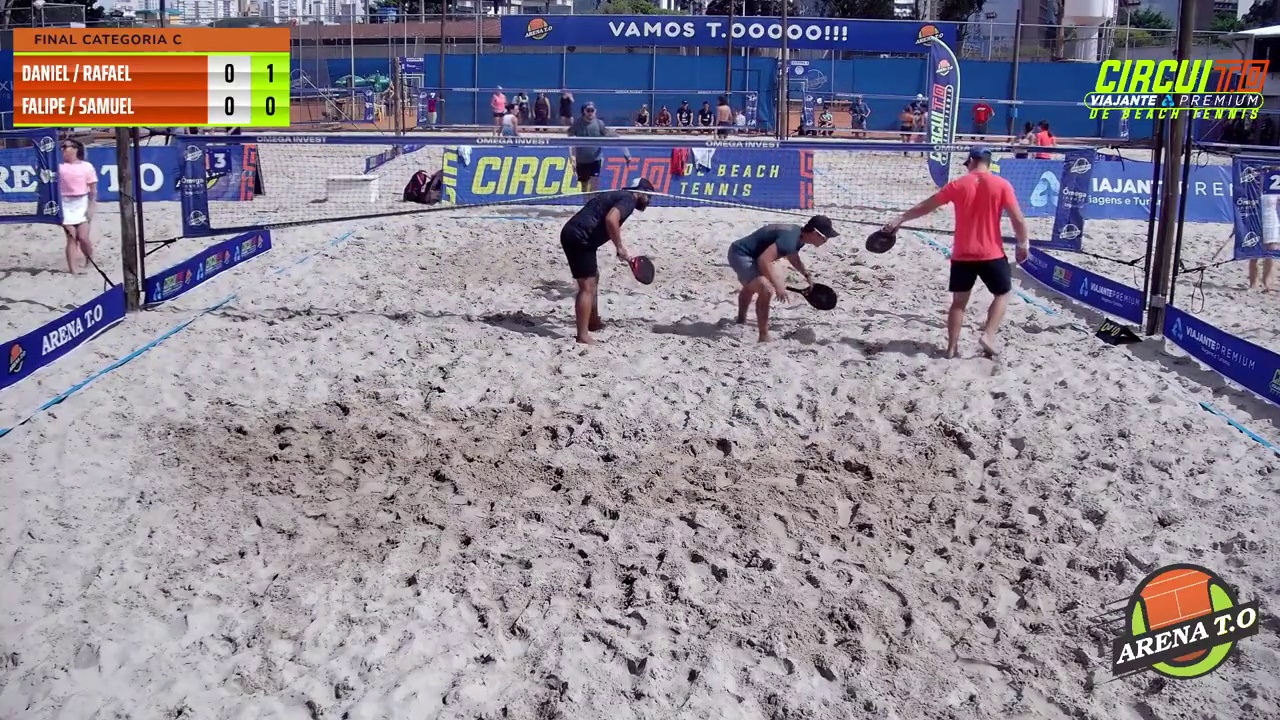court_line: (618, 0, 803, 476)
